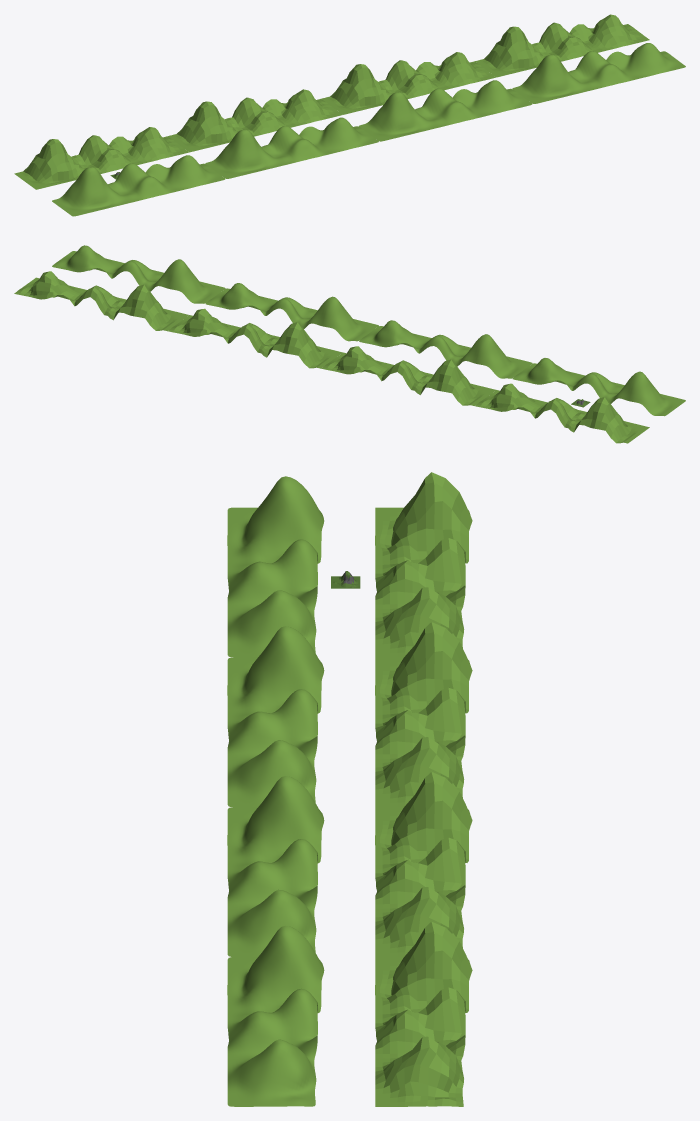
Rendered from Mountain.fbx.
The picture shows the model from 3 angles, top to bottom: view 1: azimuth 30°, elevation 25°; view 2: azimuth 150°, elevation 25°; view 3: azimuth 270°, elevation 25°; orthographic projection. The views are drawn at different scales.
Parts seen in each view (by area): view 1: Plane.001, Plane; view 2: Plane, Plane.001; view 3: Plane, Plane.001.
Boxes of the visible parts, <box> form: Plane.001: <box>52,43,685,216</box>; Plane: <box>14,14,649,189</box>; Plane: <box>14,271,649,443</box>; Plane.001: <box>52,245,685,416</box>; Plane: <box>375,472,472,1106</box>; Plane.001: <box>227,476,324,1106</box>.
Bounding box in the file's own units: 9603 × 512 × 1660.
